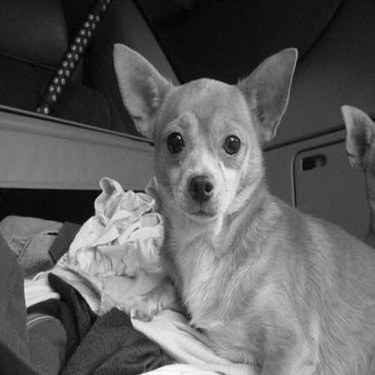dog: (103, 32, 372, 374), (338, 89, 372, 233)
